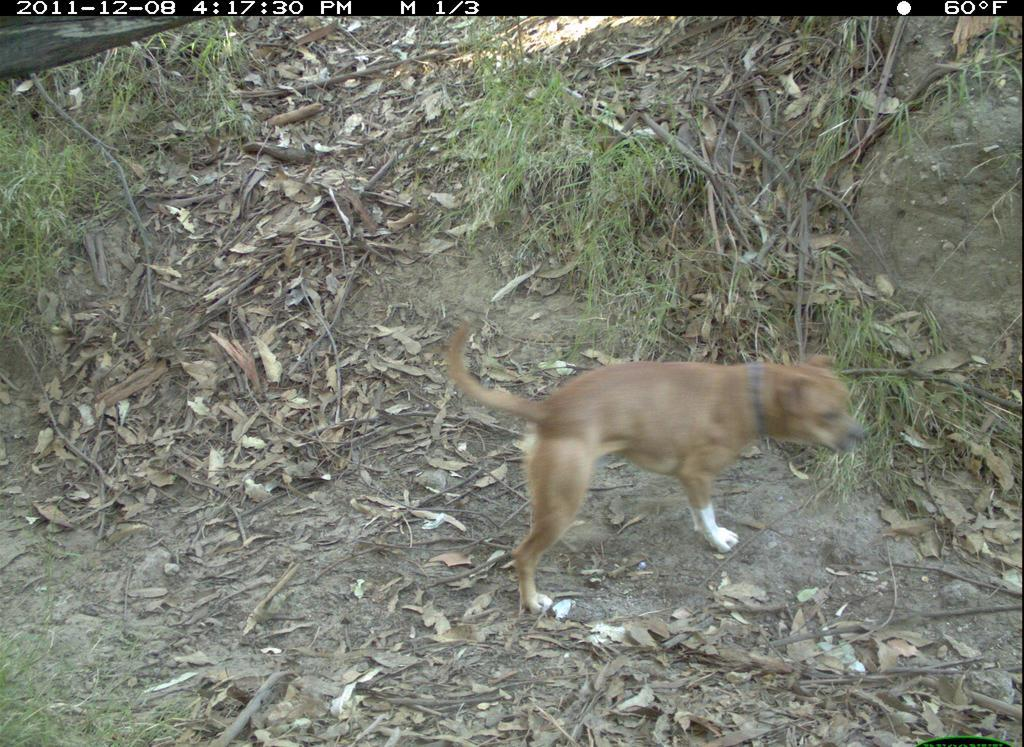dog: (431, 304, 885, 626)
